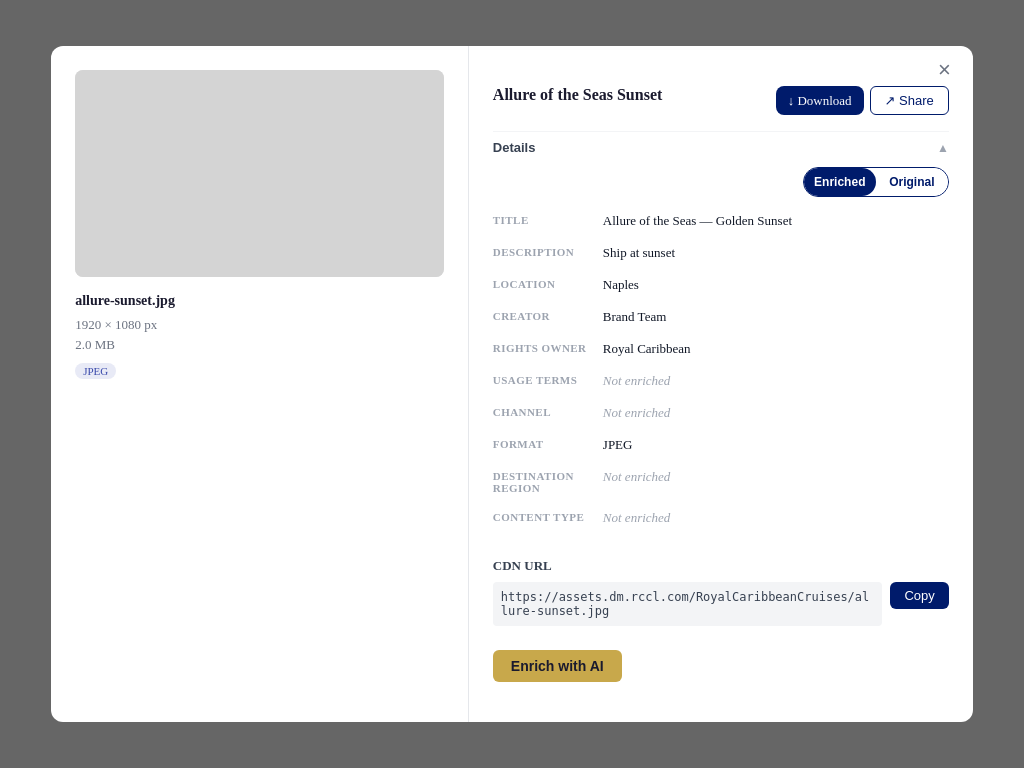
Test: AssetDetailModal › enrichAsset returns 503 → toast shown, modal remains open
Click the button with test id "enrich-btn".
click(557, 666)  # box [493,650,622,682]
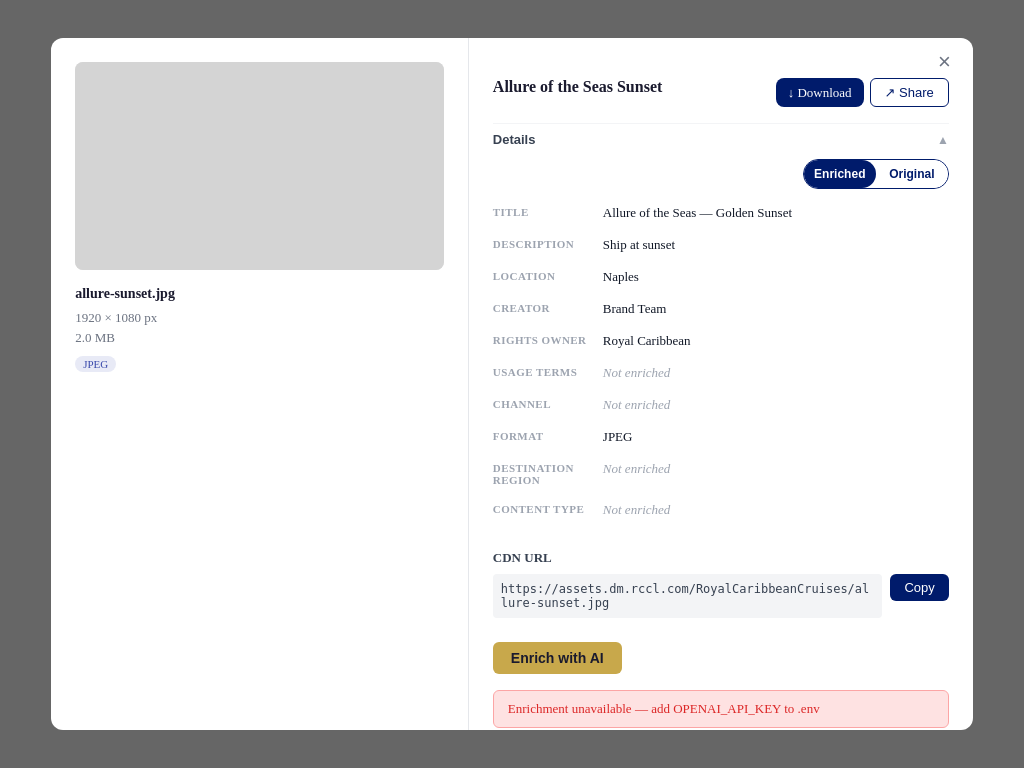
Expected: the text with test id "enrich-toast" reads "Enrichment unavailable — add OPENAI_API_KEY to .env", [508,701,820,716]
